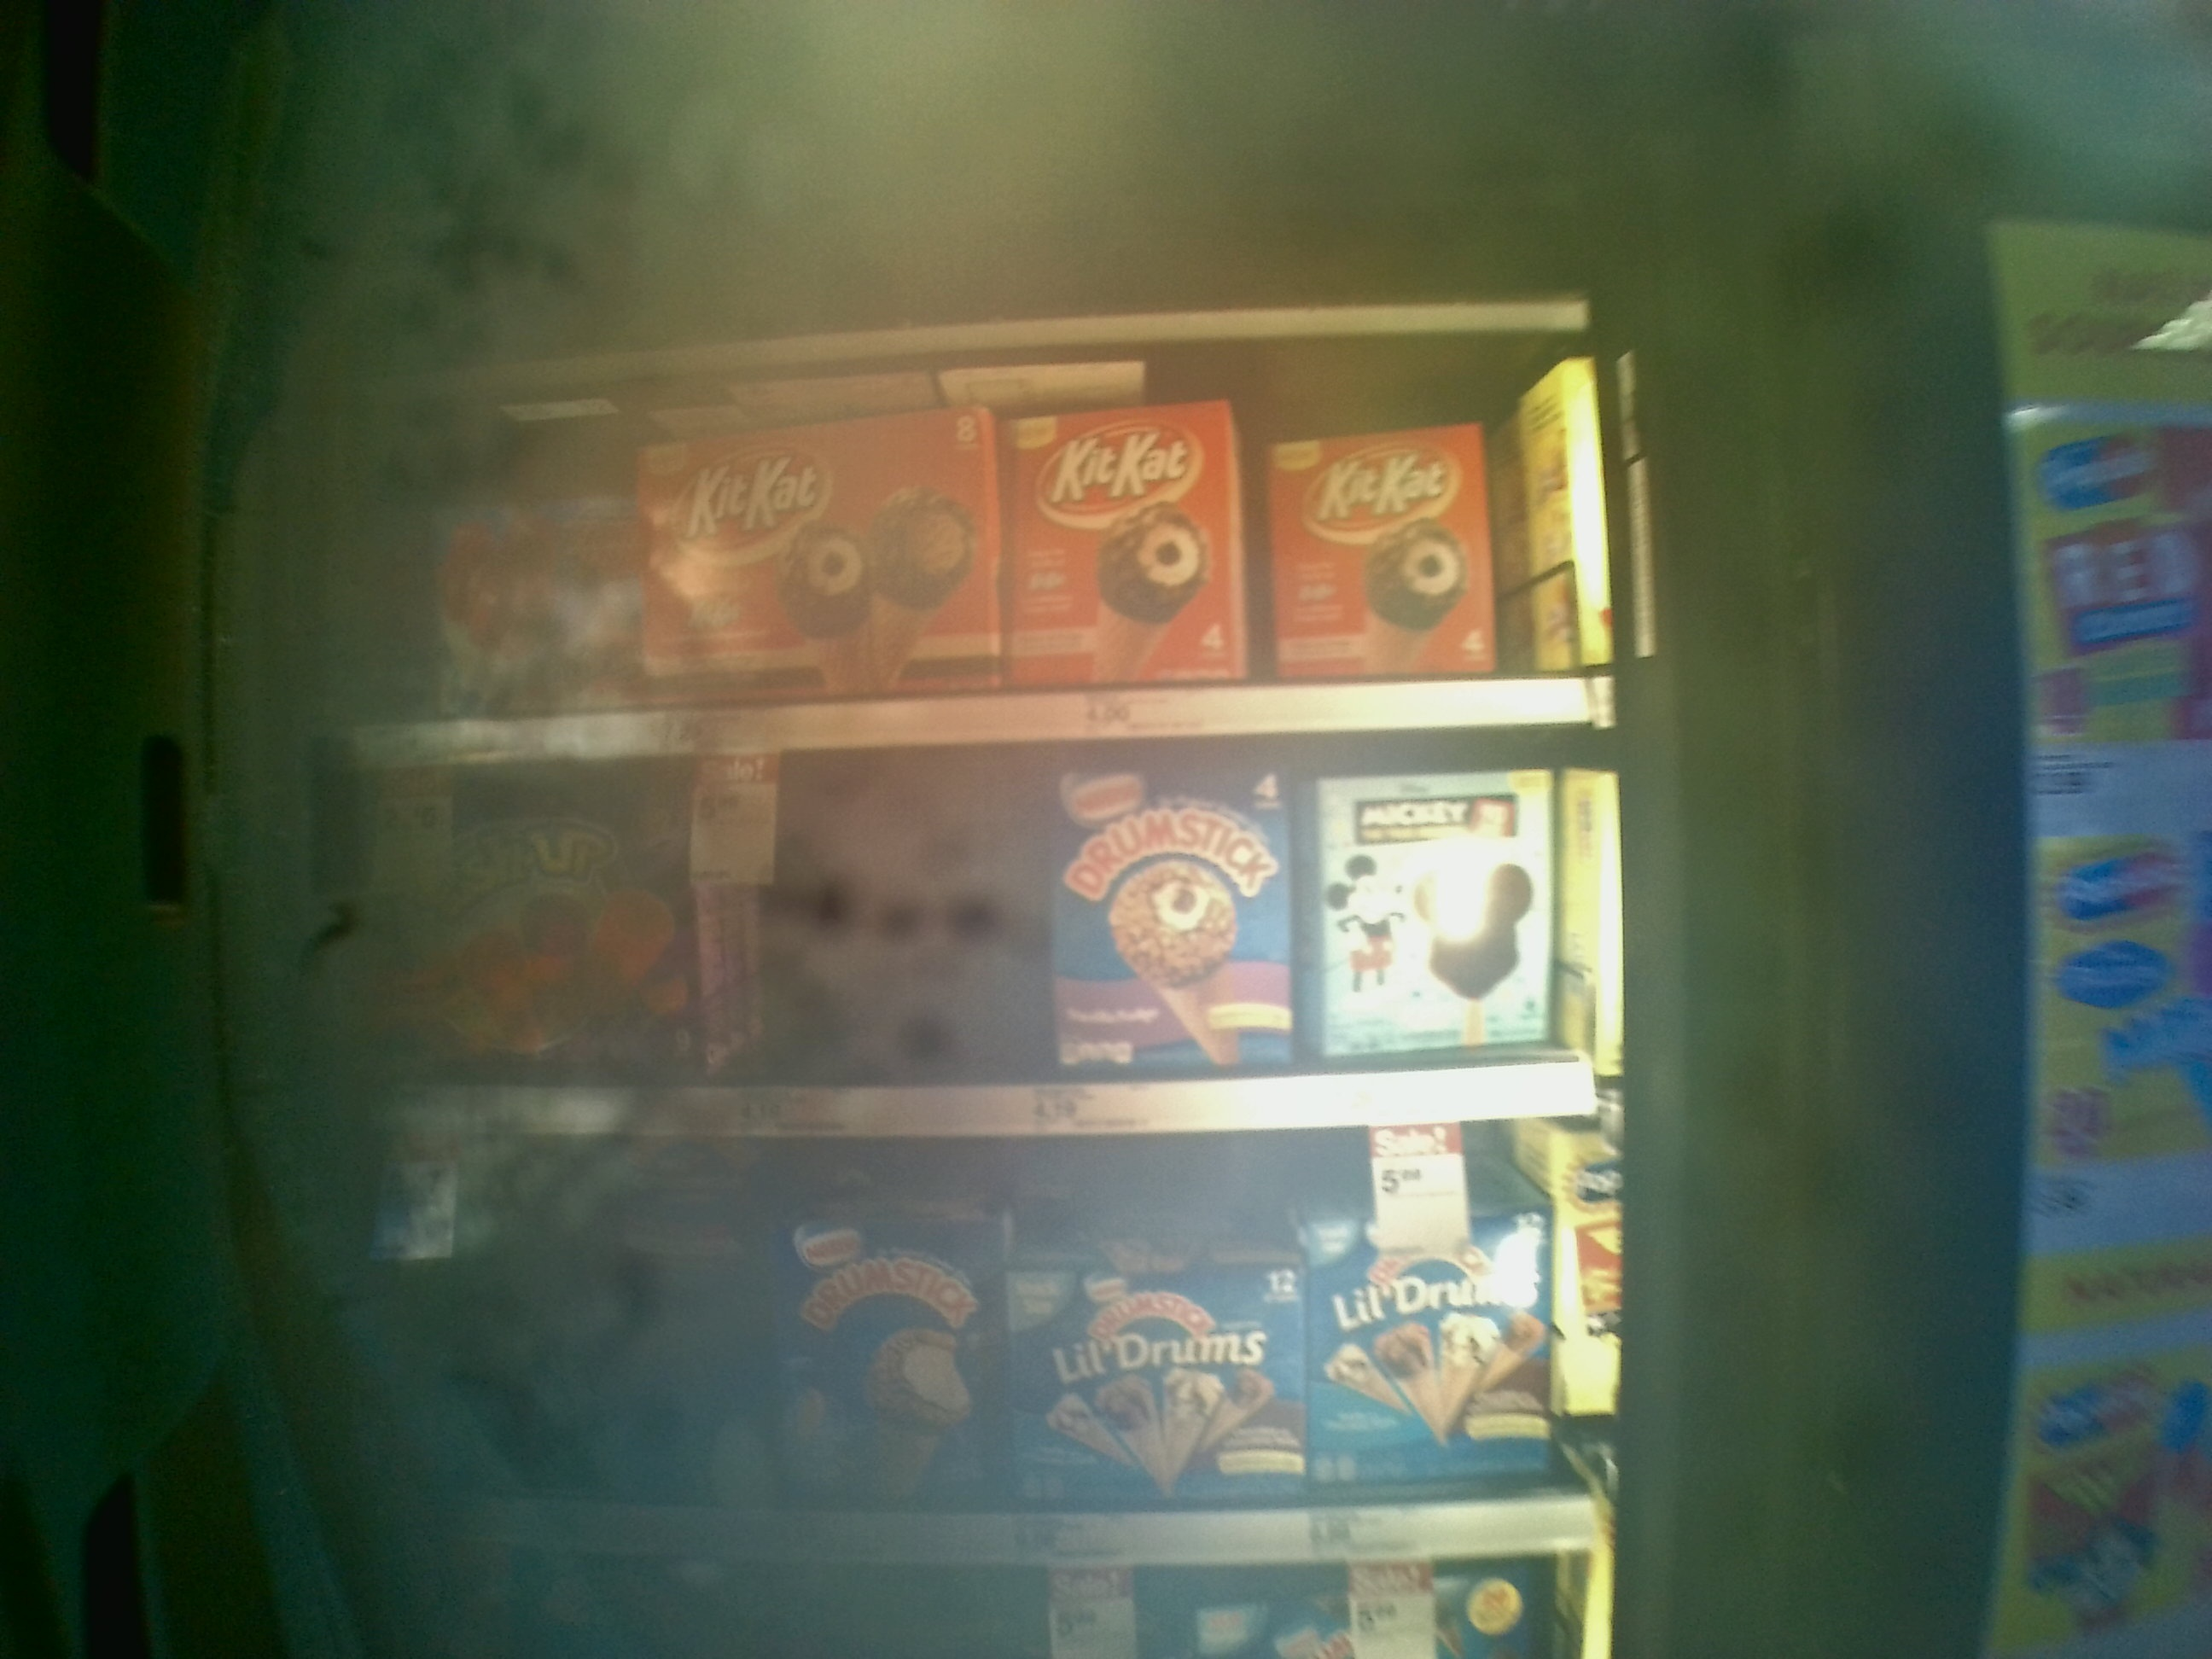shelf: (348, 335, 1634, 758), (350, 751, 1611, 1134)
